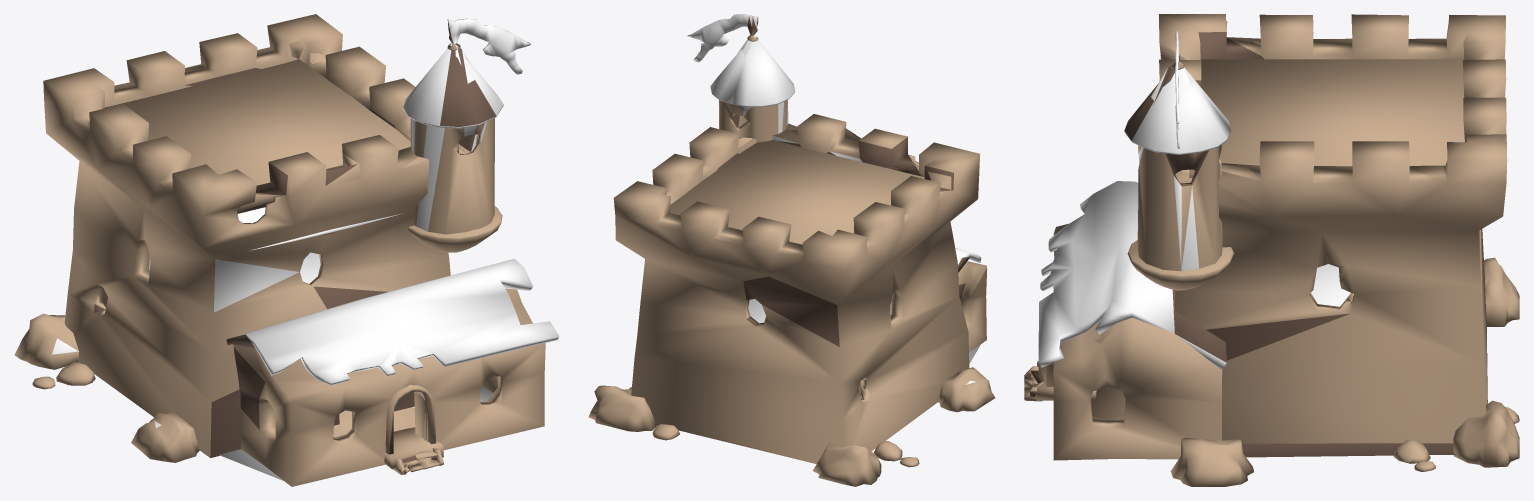
The model's file is castle_d1.3.glb.
3 views of the same model, side by side, from view 1: azimuth 30°, elevation 25°; view 2: azimuth 150°, elevation 25°; view 3: azimuth 270°, elevation 25° (orthographic). The views are drawn at different scales.
Visible parts, largest first — view 1: castle_d1.3; view 2: castle_d1.3; view 3: castle_d1.3.
Boxes of the visible parts, bbox=[...] form: castle_d1.3: bbox=[14, 14, 559, 486]; castle_d1.3: bbox=[588, 14, 995, 486]; castle_d1.3: bbox=[1024, 14, 1519, 486].
Size of the model in its own units: 2.87 by 2.66 by 2.9.
